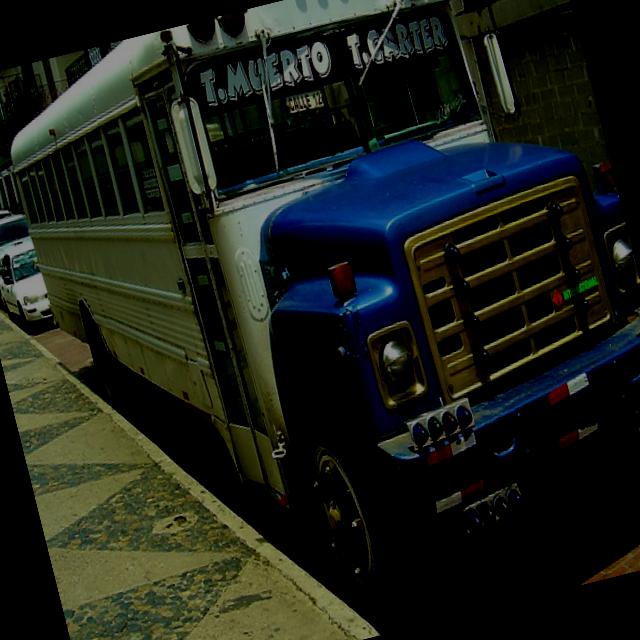Vehicle: (0, 0, 640, 640), (0, 238, 56, 337), (0, 211, 45, 305)
